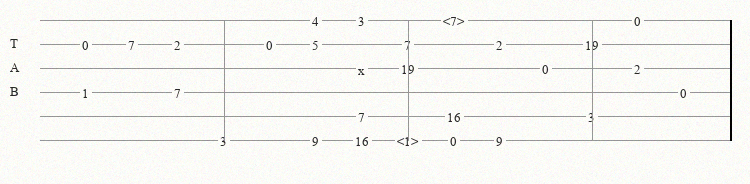0: (82, 38, 93, 51), (266, 38, 277, 51), (450, 134, 461, 147), (542, 62, 553, 75), (634, 14, 645, 27), (680, 86, 691, 99)
1: (82, 86, 93, 99)
16: (355, 134, 373, 147), (447, 110, 465, 123)
19: (401, 62, 419, 75), (585, 38, 603, 51)
2: (174, 38, 185, 51), (496, 38, 507, 51), (634, 62, 645, 75)
3: (220, 134, 231, 147), (358, 14, 369, 27), (588, 110, 599, 123)
4: (312, 14, 323, 27)
5: (312, 38, 323, 51)
7: (128, 38, 139, 51), (174, 86, 185, 99), (358, 110, 369, 123), (404, 38, 415, 51)
9: (312, 134, 323, 147), (496, 134, 507, 147)
harmonic: (397, 134, 423, 147), (443, 14, 469, 27)
x: (358, 63, 369, 73)
